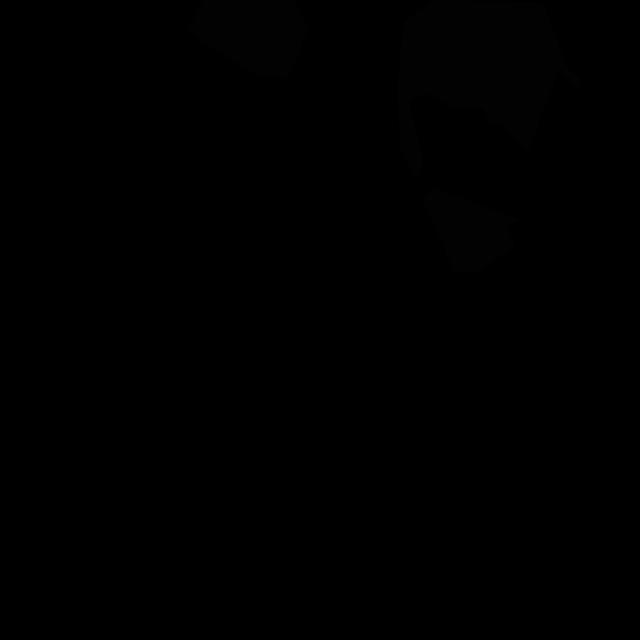cardboard: (397, 0, 580, 181), (188, 0, 309, 80), (422, 187, 520, 273)
